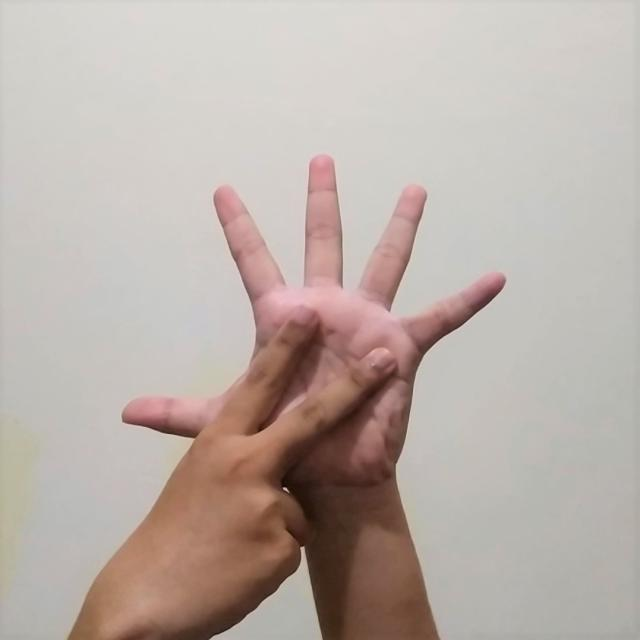N: (94, 145, 522, 476)
